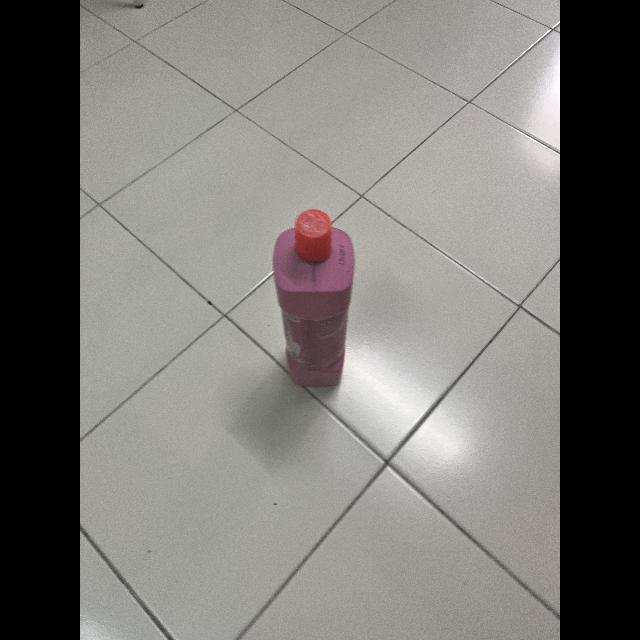chemical_plastic_bottle: (269, 202, 357, 390)
